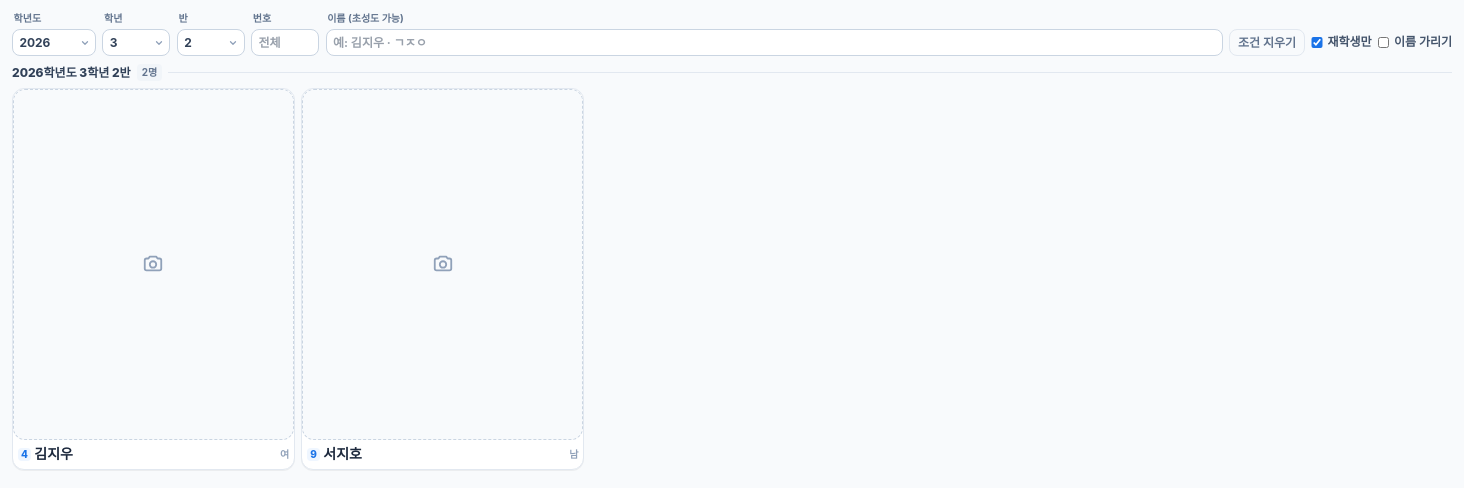
Scenario: 검색 탭 - 이름으로 찾기 › 초성으로 찾는다
The width and height of the screenshot is (1464, 488).
Type "ㄱㅈ" into the field with placeholder "예: 김지우 · ㄱㅈㅇ" at [774, 43], box [326, 29, 1223, 56]
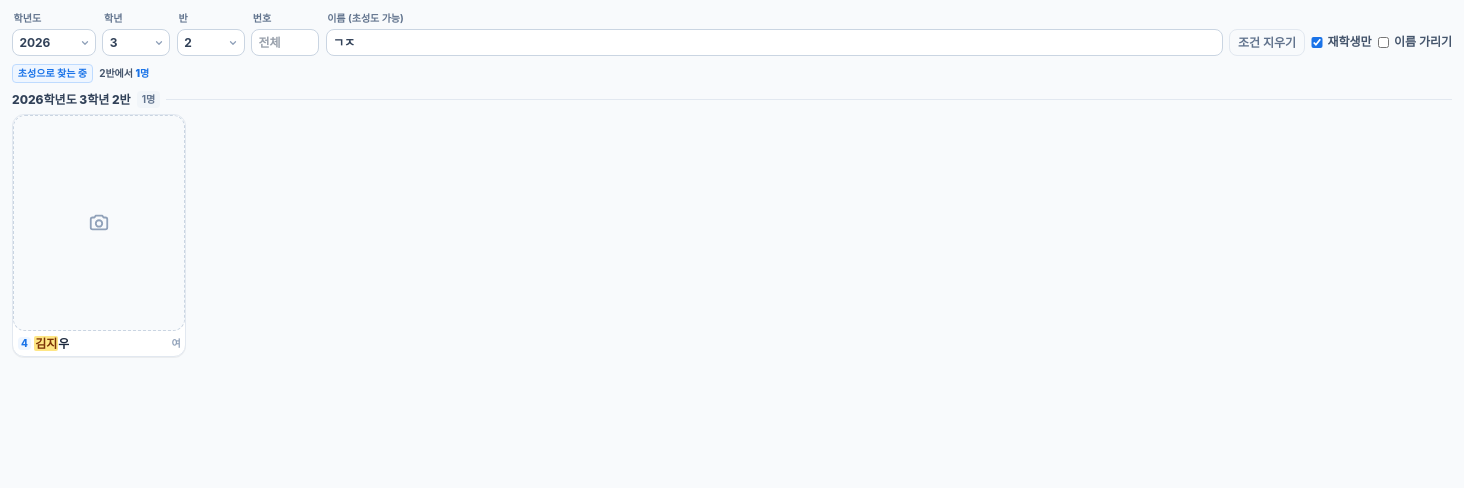
Now the text "초성으로 찾는 중" is shown, box [12, 64, 93, 83]
